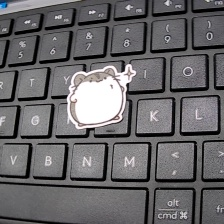mouse: (66, 63, 143, 131)
